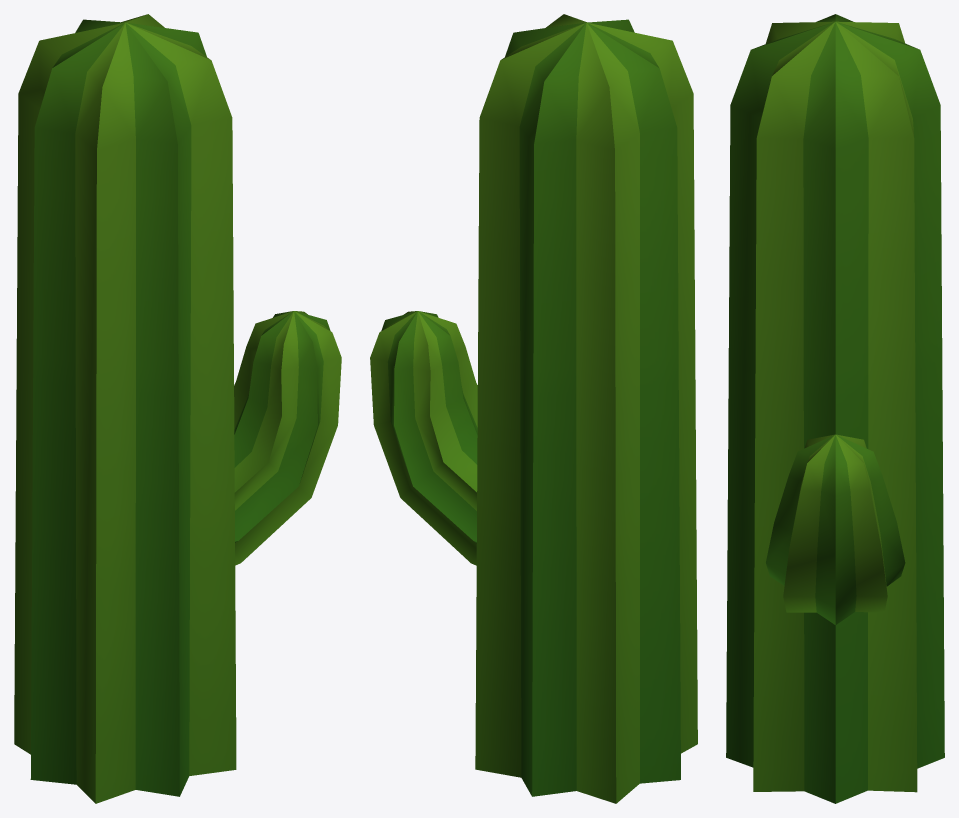
Rendered from Cactus 01.FBX.
3 renders of one model, left to right at view 1: azimuth 30°, elevation 25°; view 2: azimuth 150°, elevation 25°; view 3: azimuth 270°, elevation 25°, orthographic.
Visible parts, largest first — view 1: Cactus 01; view 2: Cactus 01; view 3: Cactus 01.
Part boxes in pixels (left/top/right/bottom): Cactus 01: left=14, top=14, right=341, bottom=803; Cactus 01: left=370, top=14, right=697, bottom=803; Cactus 01: left=726, top=14, right=944, bottom=803.
Bounding box in the file's own units: 81.6 × 188 × 50.75.
Materials: 1 (1 with a texture image).
